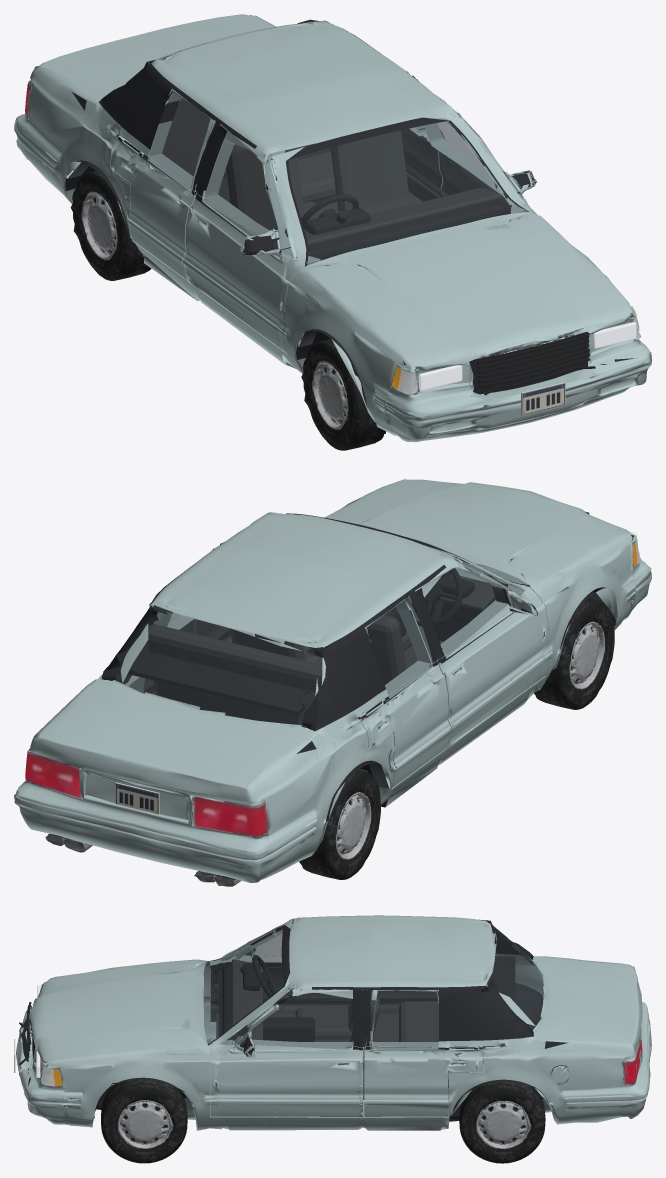
File: sedan-review.glb
3 views of the same model, one above another, from view 1: azimuth 30°, elevation 25°; view 2: azimuth 150°, elevation 25°; view 3: azimuth 270°, elevation 25° (orthographic). The views are drawn at different scales.
Parts seen in each view (by area): view 1: body_mesh, door_fl_mesh, door_rl_mesh, wheel_fl_mesh, wheel_rl_mesh, trim, door_fr_mesh, lamps, door_rr_mesh, plates; view 2: body_mesh, door_fl_mesh, door_rl_mesh, wheel_fl_mesh, wheel_rl_mesh, lamps, trim, plates; view 3: body_mesh, door_fr_mesh, door_rr_mesh, wheel_fr_mesh, wheel_rr_mesh, door_fl_mesh, lamps, door_rl_mesh, trim.
Boxes of the visible parts, x1=… form: body_mesh: x1=14, y1=14, x2=651, y2=442; door_fl_mesh: x1=183, y1=141, x2=307, y2=352; door_rl_mesh: x1=111, y1=89, x2=214, y2=280; wheel_fl_mesh: x1=301, y1=338, x2=385, y2=450; wheel_rl_mesh: x1=70, y1=170, x2=151, y2=280; trim: x1=25, y1=82, x2=595, y2=396; door_fr_mesh: x1=438, y1=111, x2=537, y2=214; lamps: x1=25, y1=86, x2=640, y2=394; door_rr_mesh: x1=401, y1=129, x2=444, y2=201; plates: x1=521, y1=382, x2=565, y2=415; body_mesh: x1=14, y1=479, x2=651, y2=882; door_fl_mesh: x1=425, y1=557, x2=550, y2=748; door_rl_mesh: x1=360, y1=596, x2=450, y2=787; wheel_fl_mesh: x1=534, y1=598, x2=614, y2=709; wheel_rl_mesh: x1=299, y1=769, x2=380, y2=879; lamps: x1=25, y1=531, x2=640, y2=836; trim: x1=25, y1=511, x2=638, y2=886; plates: x1=115, y1=782, x2=159, y2=814; body_mesh: x1=16, y1=915, x2=651, y2=1130; door_fr_mesh: x1=210, y1=988, x2=363, y2=1116; door_rr_mesh: x1=363, y1=990, x2=483, y2=1116; wheel_fr_mesh: x1=101, y1=1080, x2=187, y2=1163; wheel_rr_mesh: x1=459, y1=1082, x2=545, y2=1163; door_fl_mesh: x1=210, y1=934, x2=350, y2=1021; lamps: x1=36, y1=985, x2=641, y2=1087; door_rl_mesh: x1=379, y1=990, x2=438, y2=1013; trim: x1=19, y1=991, x2=642, y2=1087.
Size of the model in its own units: 0.3926 by 0.2847 by 0.956.
4 materials, 3 textured.
